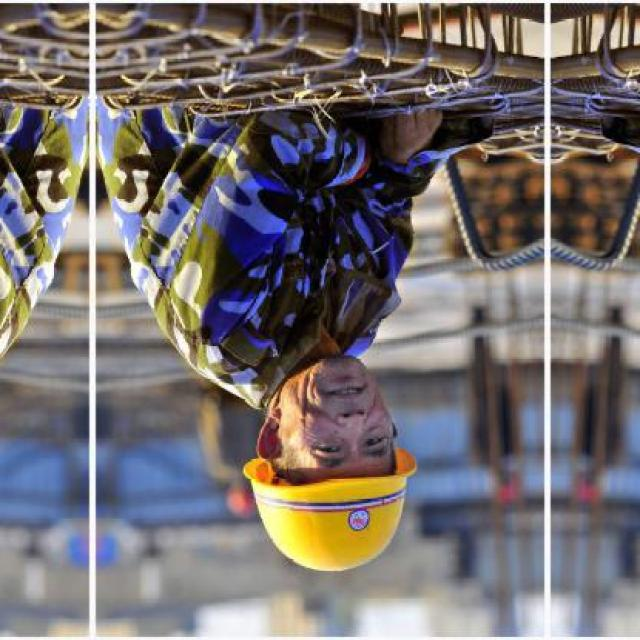safetyhelmet: (242, 401, 410, 579)
